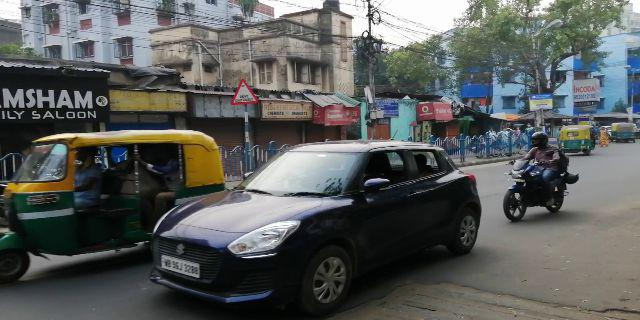Autorickshaw: (8, 137, 192, 258), (560, 128, 596, 152)
Car: (154, 144, 494, 302)
Motorbike: (499, 130, 576, 220)
